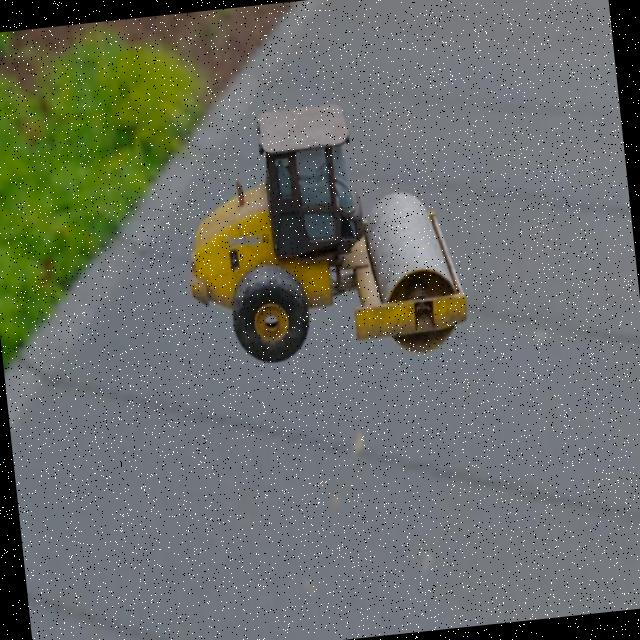Roller: (172, 90, 471, 376)
